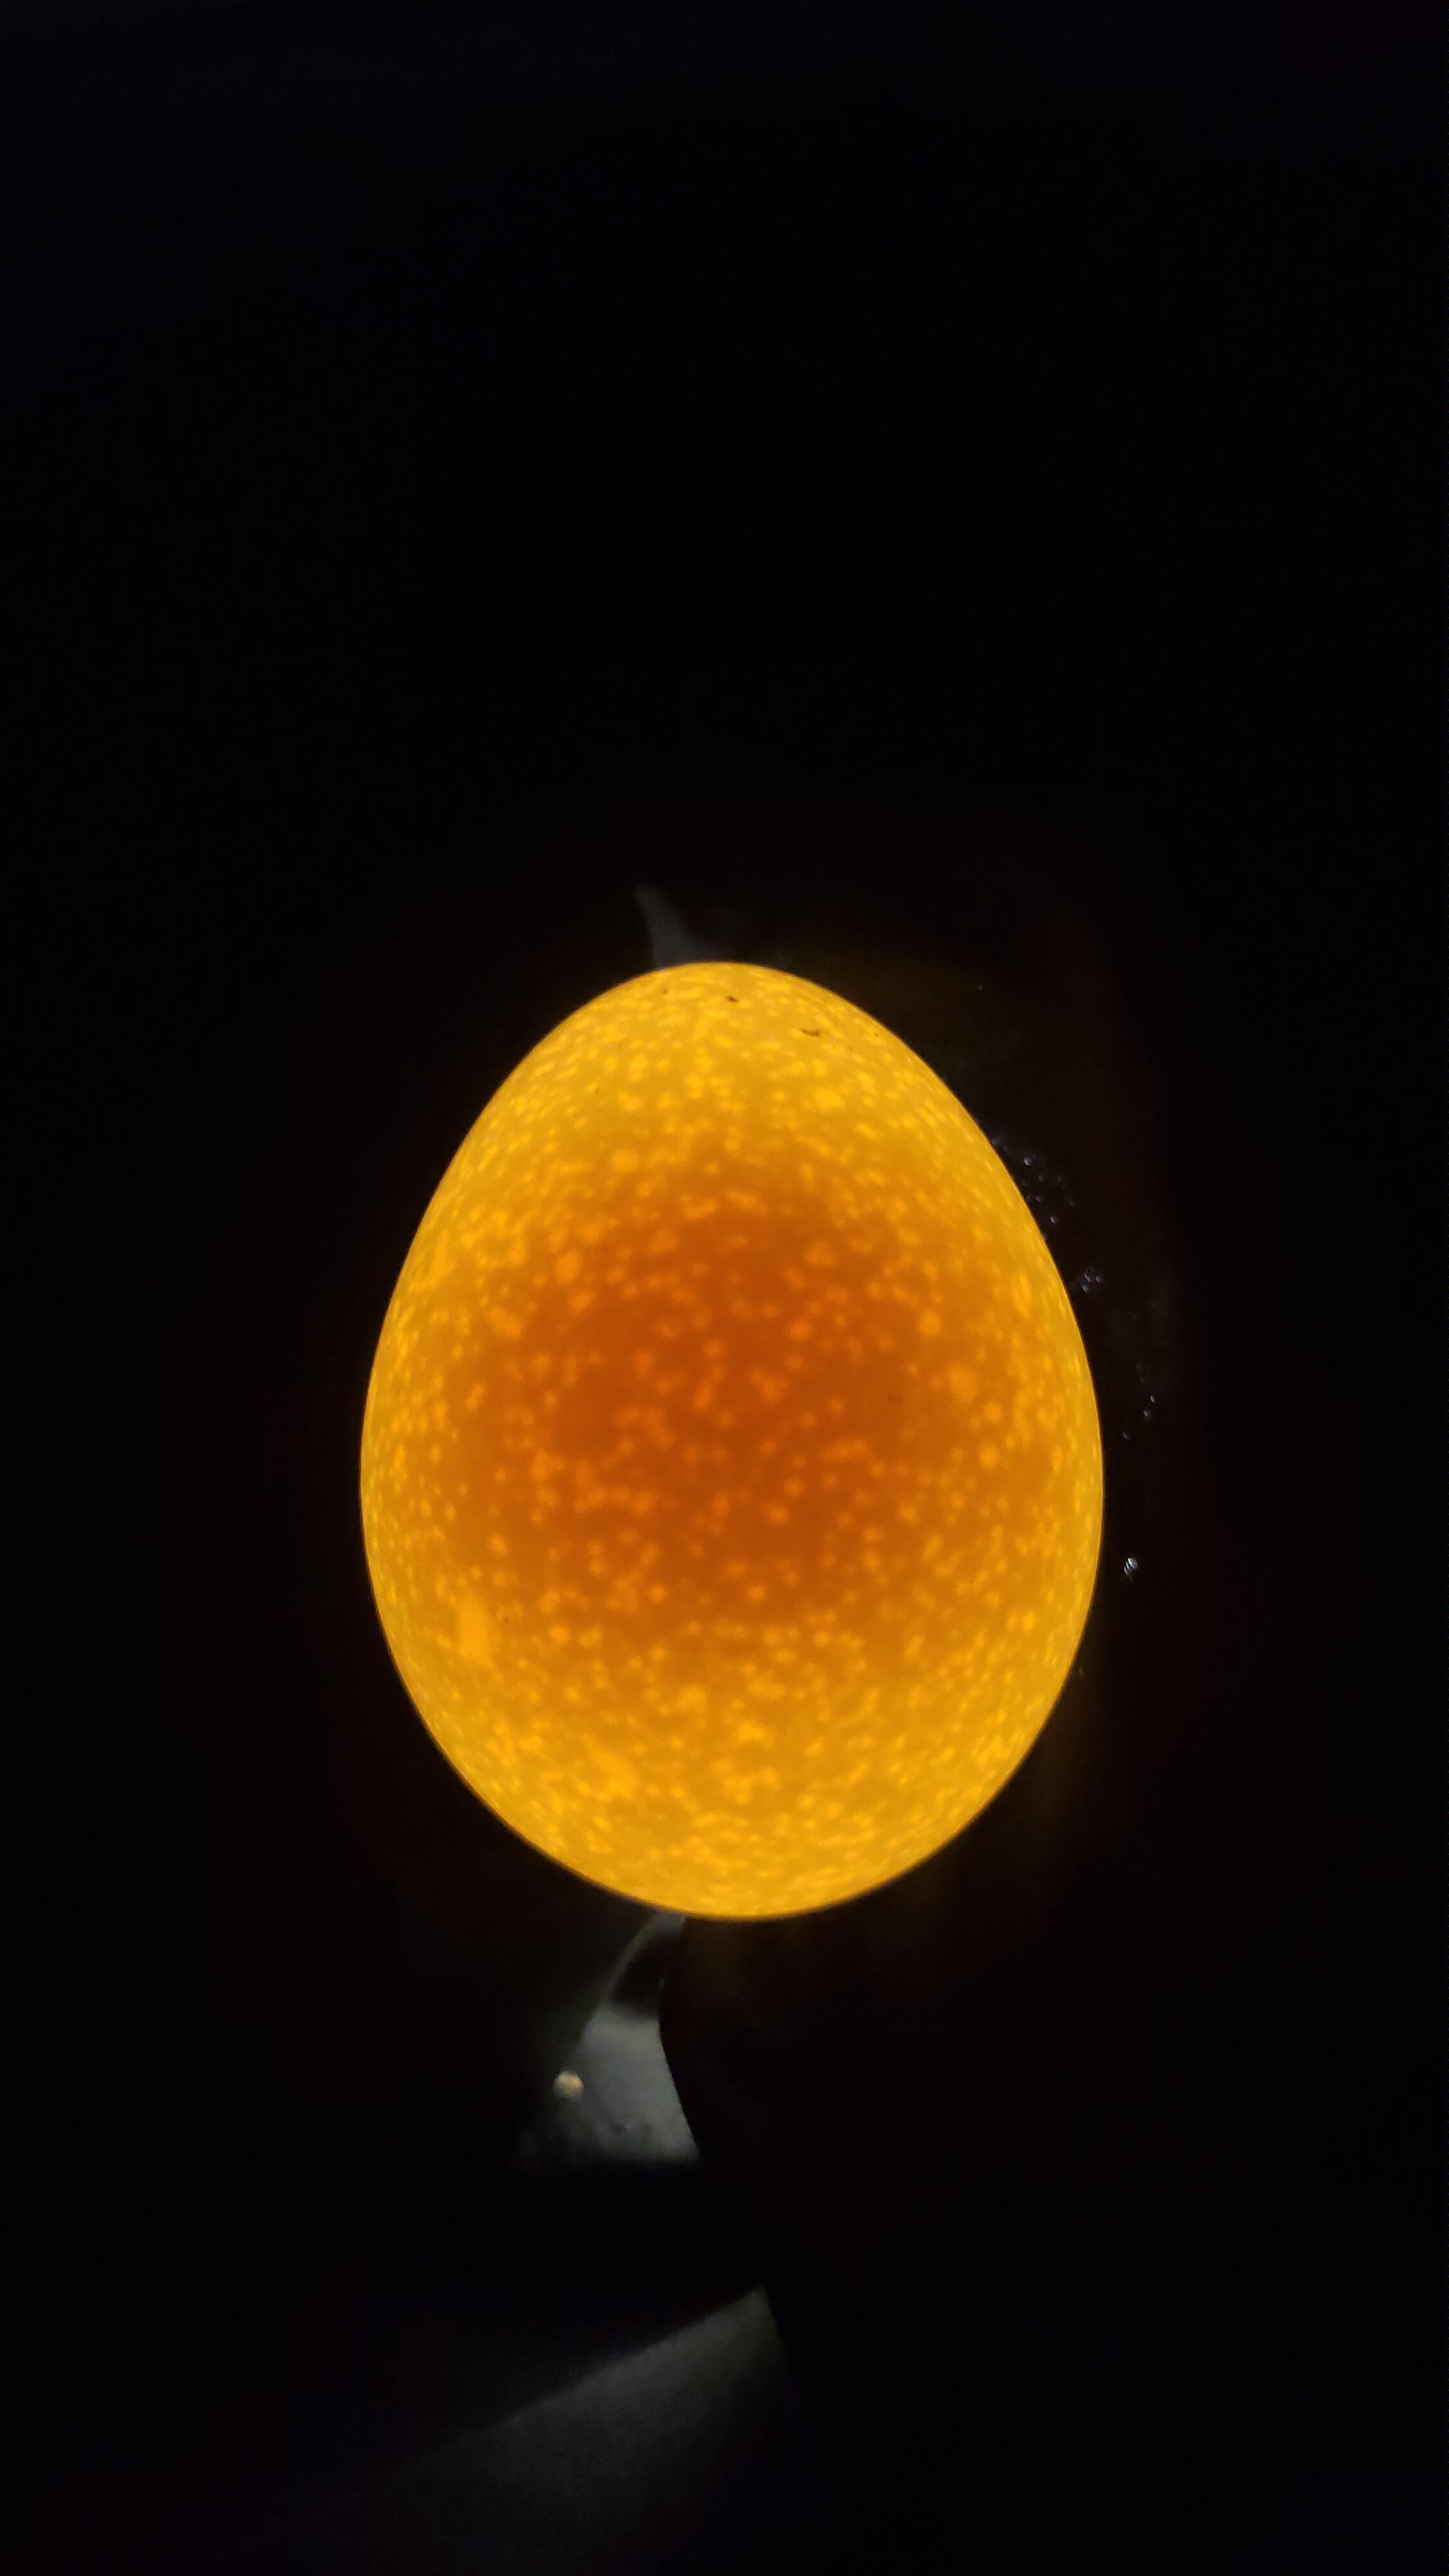A - Good: (315, 922, 1139, 1976)
